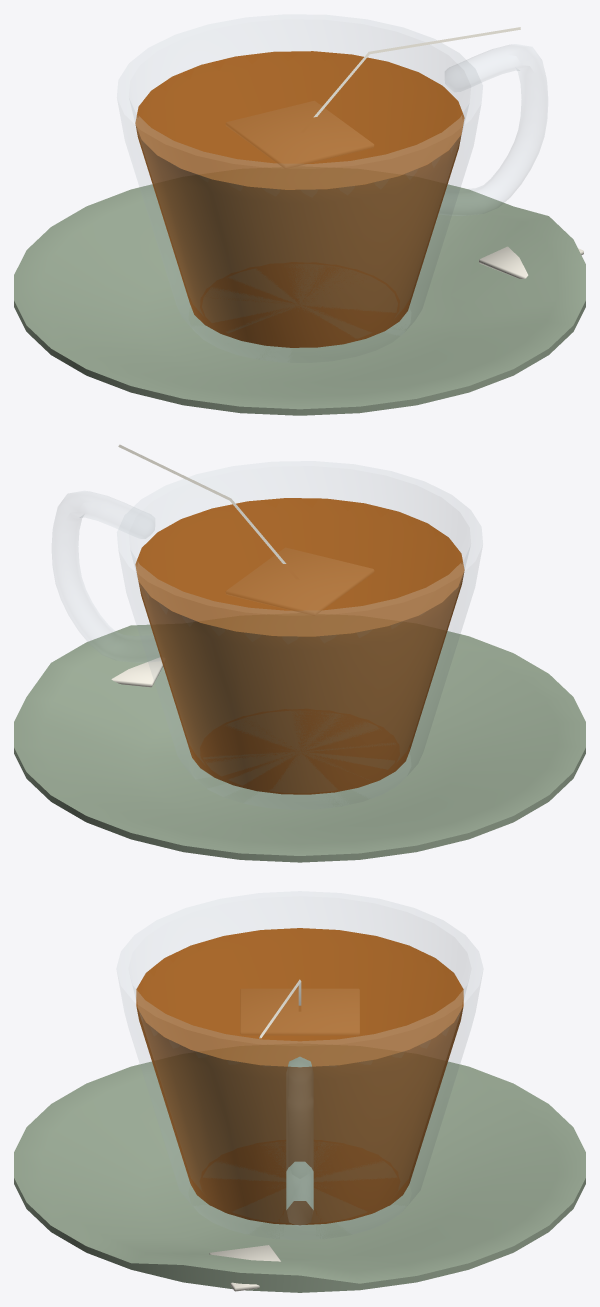
Rendered from drink_tea_cup_with_bag.glb.
The picture shows the model from 3 angles, top to bottom: view 1: azimuth 30°, elevation 25°; view 2: azimuth 150°, elevation 25°; view 3: azimuth 270°, elevation 25°; orthographic projection.
Parts seen in each view (by area): view 1: drink_tea_cup_with_bag; view 2: drink_tea_cup_with_bag; view 3: drink_tea_cup_with_bag.
Part boxes in pixels (box(x1,y1,x2,y2)): drink_tea_cup_with_bag: box(14, 15, 585, 415); drink_tea_cup_with_bag: box(14, 444, 585, 862); drink_tea_cup_with_bag: box(14, 891, 585, 1292).
Bounding box in the file's own units: 0.1448 × 0.0764 × 0.1432.
